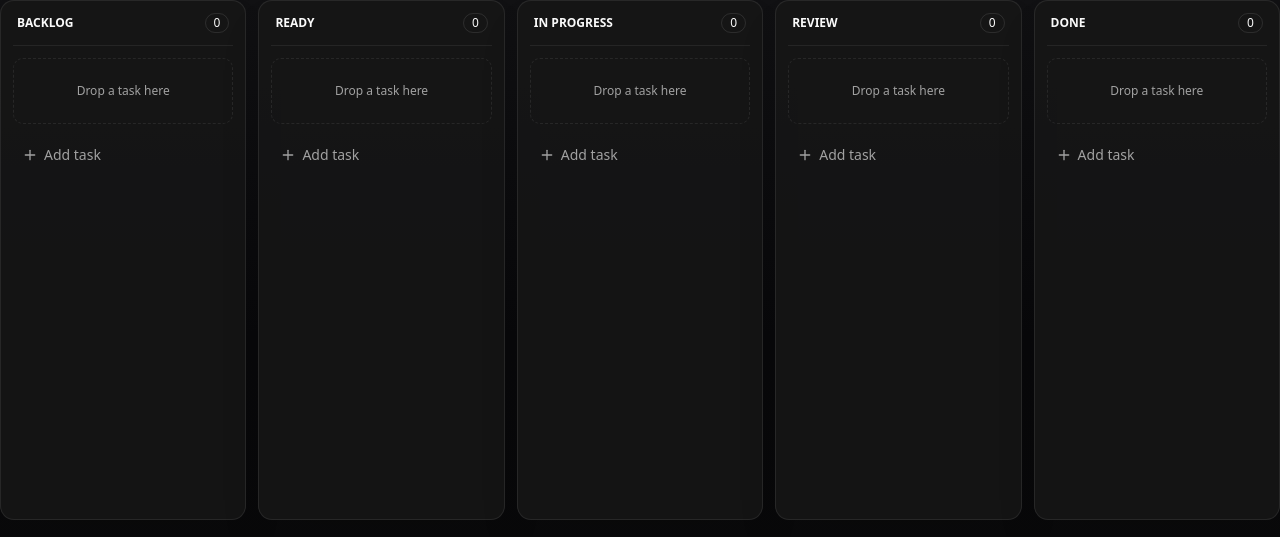
Scenario: Board › cancels the new task form
Click the button "Add task" below "Backlog" at (123, 155), box [13, 136, 233, 174]
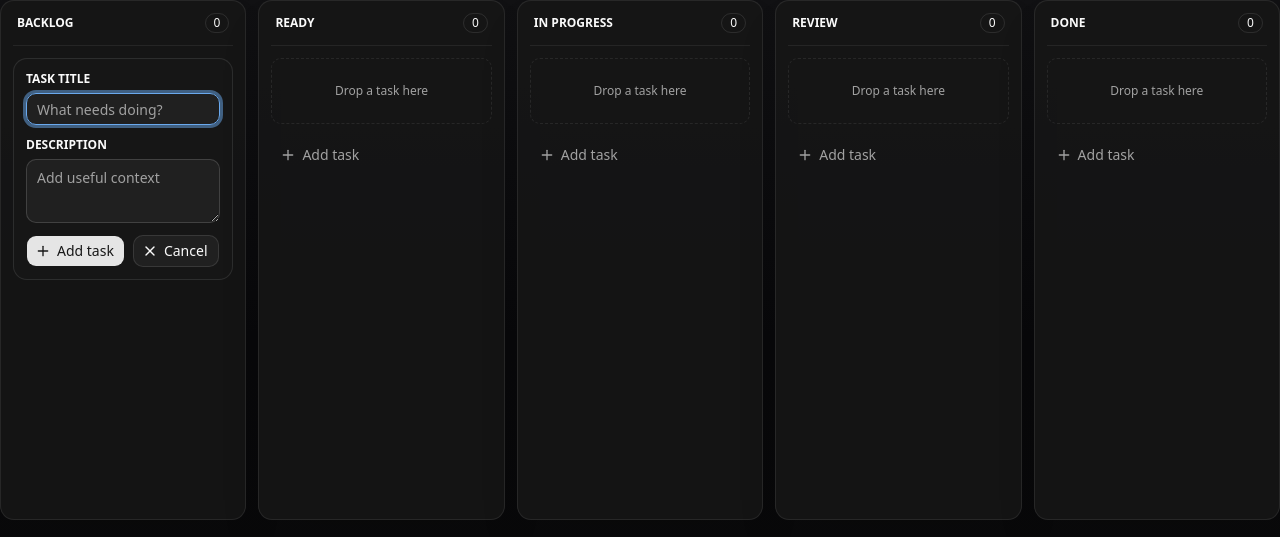
Check: the field labelled "Task title" is shown, box [26, 93, 220, 125]
Click the button "Cancel" at (176, 251), box [133, 235, 218, 267]
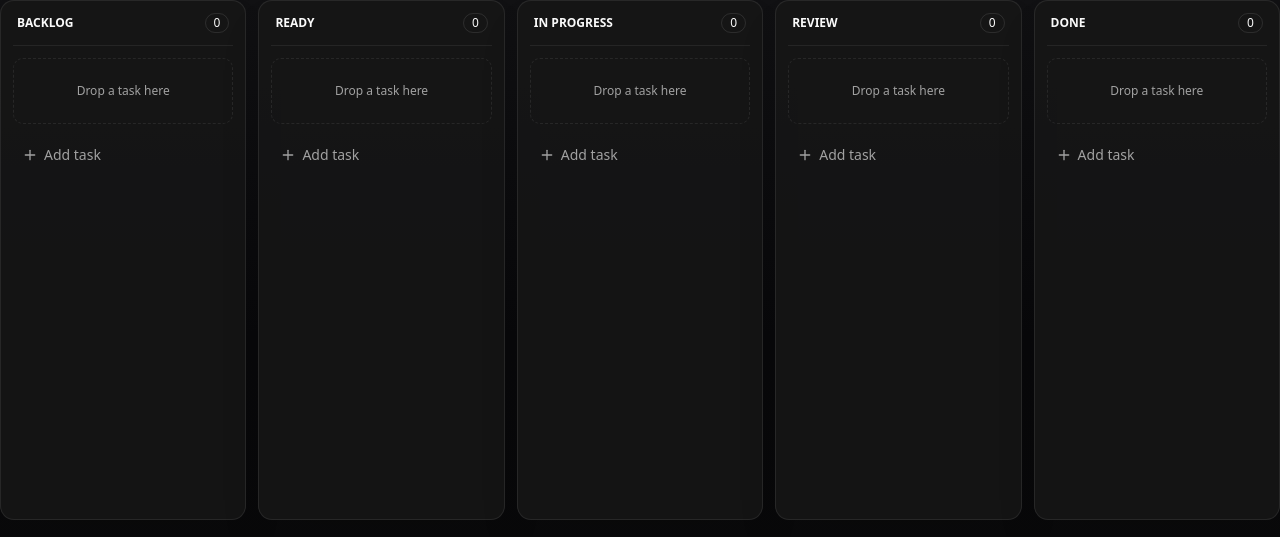
Check: the label labelled "Task title" is gone
Check: the number of buttons "Add task" is 5, box [13, 136, 233, 174]; [271, 136, 492, 174]; [530, 136, 750, 174]; [788, 136, 1009, 174]; [1047, 136, 1267, 174]
